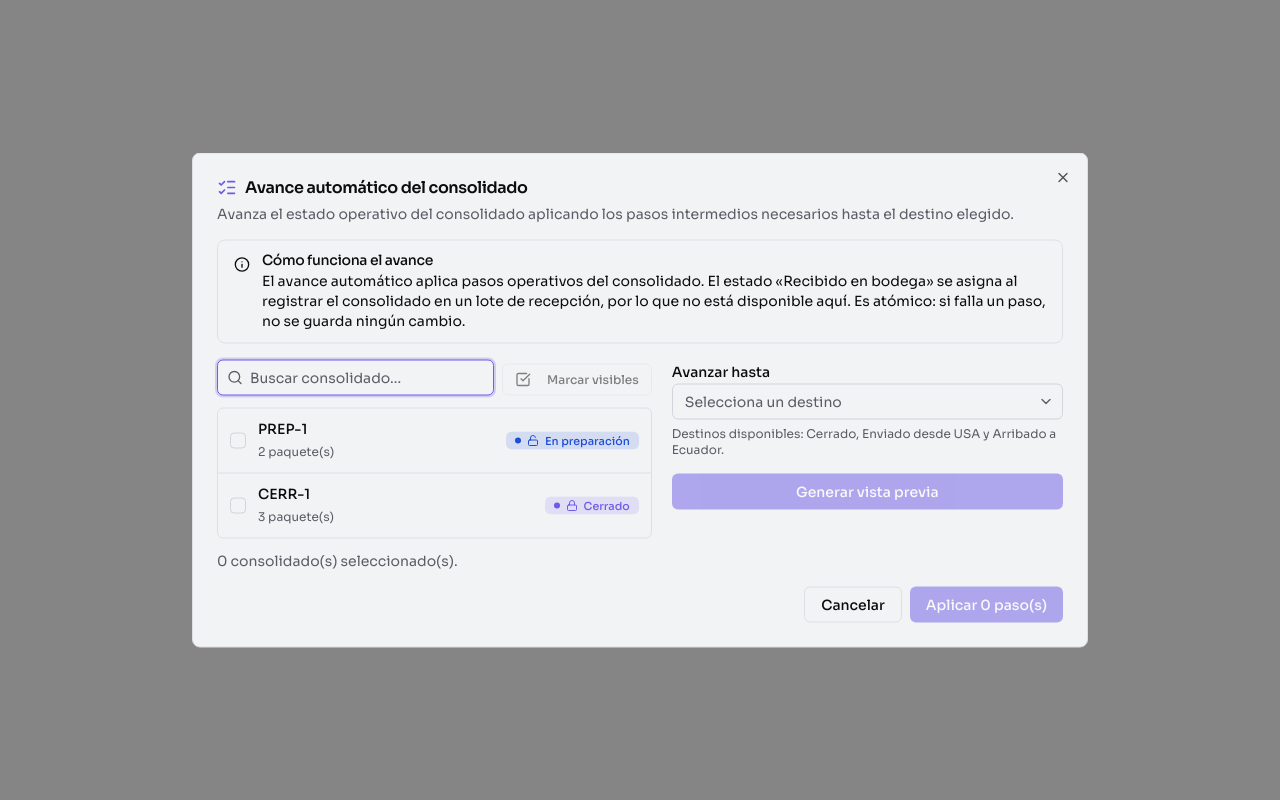
Test: AvanceOperativoConsolidadosDialog › el selector "Avanzar hasta" solo lista Cerrado, Enviado desde USA y Arribado a Ecuador
Click the dropdown named "Avanzar hasta": click(763, 402) [672,384,1063,420]
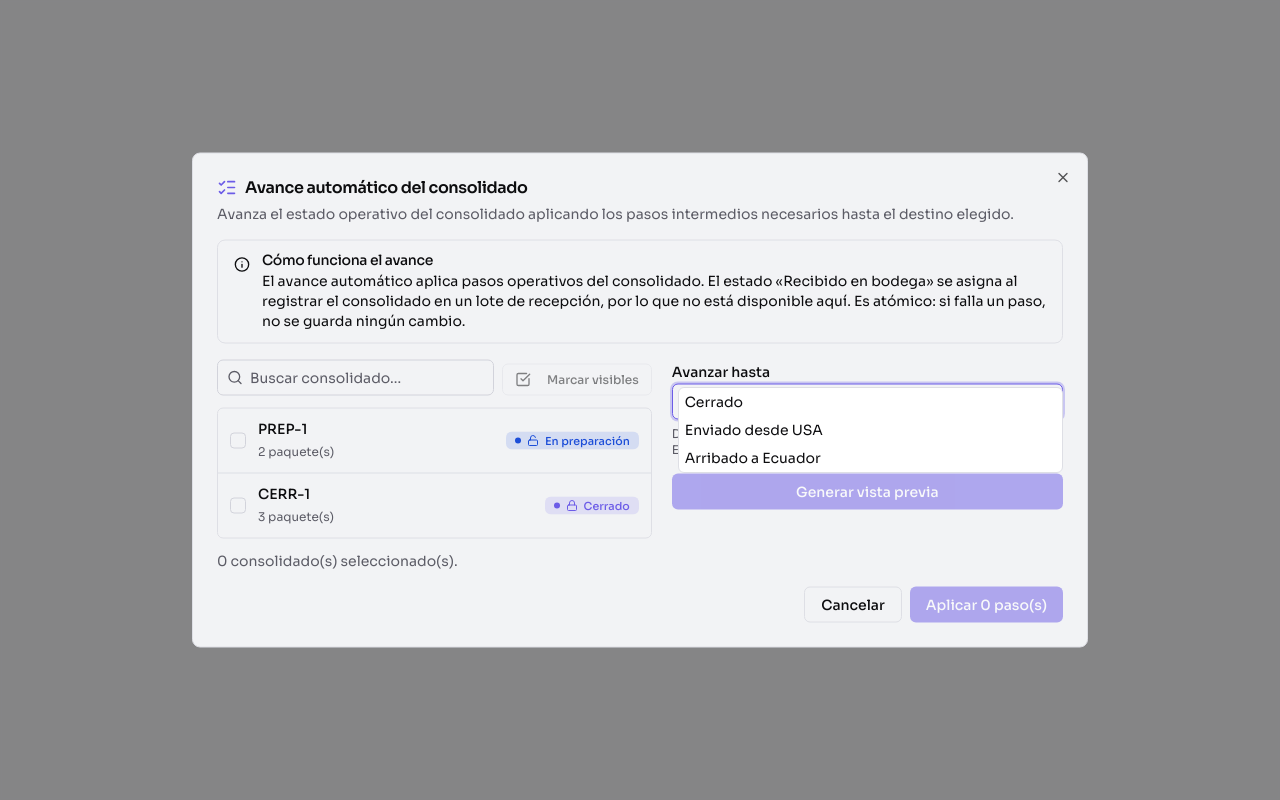
Result: the option "Cerrado" is shown at [685,392,743,410]
Result: the option "Enviado desde USA" is shown at [685,420,823,438]
Result: the option "Arribado a Ecuador" is shown at [685,448,821,466]
